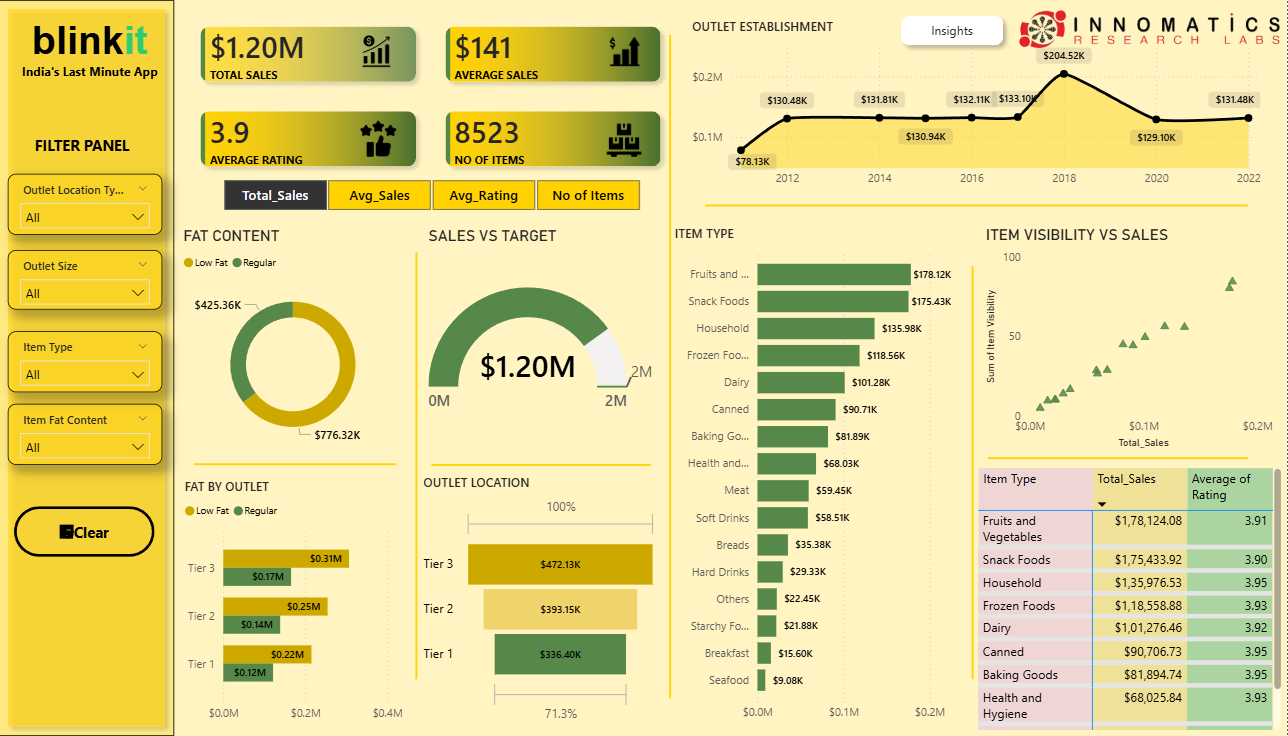

What the dashboard file says about the page in this screenshot:
{"tool":"powerbi","page":{"name":"Blinkit Dashboard","canvas":[1400,800],"ordinal":0},"visuals":[{"type":"cardVisual","fields":{"Data":["BlinkIT Grocery Data.Total_Sales","BlinkIT Grocery Data.Avg_Sales","BlinkIT Grocery Data.Avg_Rating_Per_Item","BlinkIT Grocery Data.No of Items"]},"box":[190.2,0,558.4,212],"z":0},{"type":"image","box":[388.6,38,43.5,35.3],"z":1000},{"type":"image","box":[659,39.4,42.1,34],"z":2000},{"type":"image","box":[392.7,130.4,39.4,40.8],"z":3000},{"type":"image","box":[659,133.2,40.8,38],"z":4000},{"type":"donutChart","title":"FAT CONTENT","fields":{"Y":["BlinkIT Grocery Data.Total_Sales"],"Category":["Items Content.Item Fat Content"]},"box":[195.7,245.3,248,252],"z":5000},{"type":"slicer","fields":{"Values":["Metrics.Metrics"]},"box":[218.8,188.9,501.4,46.2],"z":6000},{"type":"clusteredBarChart","title":"FAT BY OUTLET","fields":{"Category":["Outlet Location.Outlet Location Type"],"Y":["BlinkIT Grocery Data.Total_Sales"],"Series":["Items Content.Item Fat Content"]},"box":[197.1,518.8,248,273.5],"z":7000},{"type":"barChart","title":"ITEM TYPE","fields":{"Y":["BlinkIT Grocery Data.Total_Sales"],"Category":["Items.Item Type"]},"box":[729.6,244.6,327.4,547.6],"z":8000},{"type":"shape","box":[211.8,494.6,219.8,20.1],"z":9000},{"type":"shape","box":[443.7,274.8,18.8,463.8],"z":10000},{"type":"lineChart","title":"OUTLET ESTABLISHMENT","fields":{"Y":["BlinkIT Grocery Data.Total_Sales"],"Category":["Outlet Info.Outlet Establishment Year"]},"box":[748.6,19,627.7,192.9],"z":11000},{"type":"gauge","title":"SALES VS TARGET","fields":{"Y":["BlinkIT Grocery Data.Total_Sales"],"MinValue":["BlinkIT Grocery Data.Min Sales"],"MaxValue":["BlinkIT Grocery Data.Max Sales"],"TargetValue":["BlinkIT Grocery Data.Sales Target"]},"box":[462.5,245.3,258.7,252],"z":12000},{"type":"funnel","title":"OUTLET LOCATION","fields":{"Y":["BlinkIT Grocery Data.Total_Sales"],"Category":["Outlet Location.Outlet Location Type"]},"box":[457.1,514.7,264.1,277.5],"z":13000},{"type":"shape","box":[721.2,37.5,16.1,721.2],"z":14000},{"type":"pivotTable","fields":{"Rows":["Items.Item Type"],"Values":["BlinkIT Grocery Data.Total_Sales","Avg(BlinkIT Grocery Data.Rating)"]},"box":[1059.8,504.1,339.7,293.5],"z":15000},{"type":"shape","box":[0,0,190.6,800],"z":16000},{"type":"textbox","box":[9,15,178.6,79.5],"z":17000},{"type":"textbox","box":[34.5,141.1,118.6,34.5],"z":18000},{"type":"slicer","fields":{"Values":["Outlet Location.Outlet Location Type"]},"box":[9,189.1,168.1,66],"z":19000},{"type":"slicer","fields":{"Values":["Outlet Info.Outlet Size"]},"box":[9,271.7,168.1,64.5],"z":20000},{"type":"slicer","fields":{"Values":["Items.Item Type"]},"box":[9,360.2,168.1,66],"z":21000},{"type":"slicer","fields":{"Values":["Items Content.Item Fat Content"]},"box":[9,438.3,168.1,66],"z":22000},{"type":"actionButton","box":[16.1,550.9,152.8,55],"z":23000},{"type":"shape","box":[470.5,500,238.6,10.7],"z":24000},{"type":"shape","box":[1046.9,289.5,21.4,449.1],"z":25000},{"type":"shape","box":[768.1,211.8,589.8,22.8],"z":26000},{"type":"shape","box":[1074.7,491.9,282.6,12.2],"z":27000},{"type":"scatterChart","title":" ITEM VISIBILITY VS SALES","fields":{"X":["BlinkIT Grocery Data.Total_Sales"],"Y":["Sum(BlinkIT Grocery Data.Item Visibility)"],"Category":["Items.Item Type"]},"box":[1067.9,244.6,322,247.3],"z":28000},{"type":"pageNavigator","box":[971.5,8.2,129.1,50.3],"z":29000},{"type":"image","box":[1100.5,0,298.9,63.9],"z":30000}]}

Visuals, with their boxes in screenshot pixels (x1, y1, x2, y2), scaled from the page's 1400x800 canvas onto the 1288x736 screenshot:
cardVisual - BlinkIT Grocery Data.Total_Sales x BlinkIT Grocery Data.Avg_Sales: x1=175, y1=0, x2=689, y2=195
image: x1=358, y1=35, x2=398, y2=67
image: x1=606, y1=36, x2=645, y2=68
image: x1=361, y1=120, x2=398, y2=158
image: x1=606, y1=123, x2=644, y2=158
"FAT CONTENT" donutChart: x1=180, y1=226, x2=408, y2=458
slicer - Metrics.Metrics: x1=201, y1=174, x2=663, y2=216
"FAT BY OUTLET" clusteredBarChart: x1=181, y1=477, x2=409, y2=729
"ITEM TYPE" barChart: x1=671, y1=225, x2=972, y2=729
shape: x1=195, y1=455, x2=397, y2=474
shape: x1=408, y1=253, x2=426, y2=680
"OUTLET ESTABLISHMENT" lineChart: x1=689, y1=17, x2=1266, y2=195
"SALES VS TARGET" gauge: x1=426, y1=226, x2=664, y2=458
"OUTLET LOCATION" funnel: x1=421, y1=474, x2=664, y2=729
shape: x1=664, y1=34, x2=678, y2=698
pivotTable - Items.Item Type x BlinkIT Grocery Data.Total_Sales: x1=975, y1=464, x2=1287, y2=734
shape: x1=0, y1=0, x2=175, y2=735
textbox: x1=8, y1=14, x2=173, y2=87
textbox: x1=32, y1=130, x2=141, y2=162
slicer - Outlet Location.Outlet Location Type: x1=8, y1=174, x2=163, y2=235
slicer - Outlet Info.Outlet Size: x1=8, y1=250, x2=163, y2=309
slicer - Items.Item Type: x1=8, y1=331, x2=163, y2=392
slicer - Items Content.Item Fat Content: x1=8, y1=403, x2=163, y2=464
actionButton: x1=15, y1=507, x2=155, y2=557
shape: x1=433, y1=460, x2=652, y2=470
shape: x1=963, y1=266, x2=983, y2=680
shape: x1=707, y1=195, x2=1249, y2=216
shape: x1=989, y1=453, x2=1249, y2=464
" ITEM VISIBILITY VS SALES" scatterChart: x1=982, y1=225, x2=1279, y2=453
pageNavigator: x1=894, y1=8, x2=1013, y2=54
image: x1=1012, y1=0, x2=1287, y2=59
